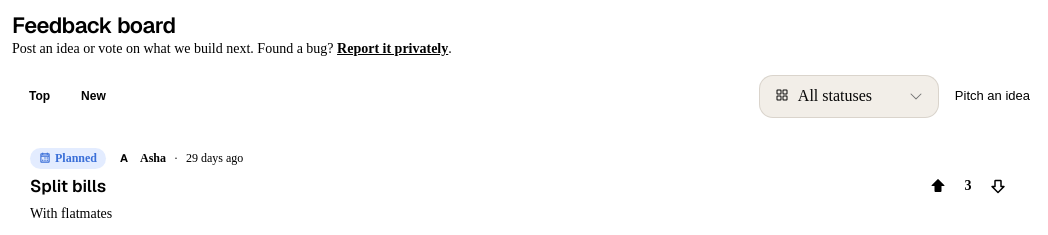
switches to a downvote from an upvote in one tap
Expected: the text "Split bills" is shown, left=30, top=175, right=106, bottom=197
Click the button named "Downvote": (998, 186) left=982, top=170, right=1014, bottom=202
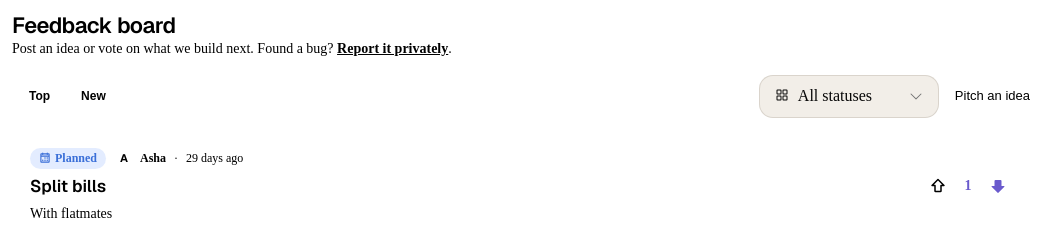
Expected: the element named "Votes, score 1" is shown, left=918, top=166, right=1018, bottom=206
